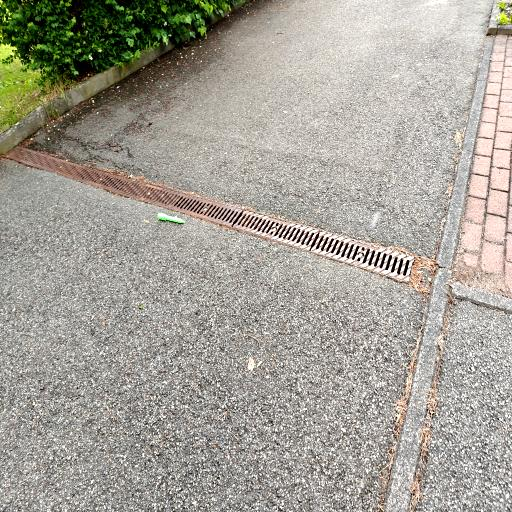Probe-Detection: (157, 213, 185, 223)
